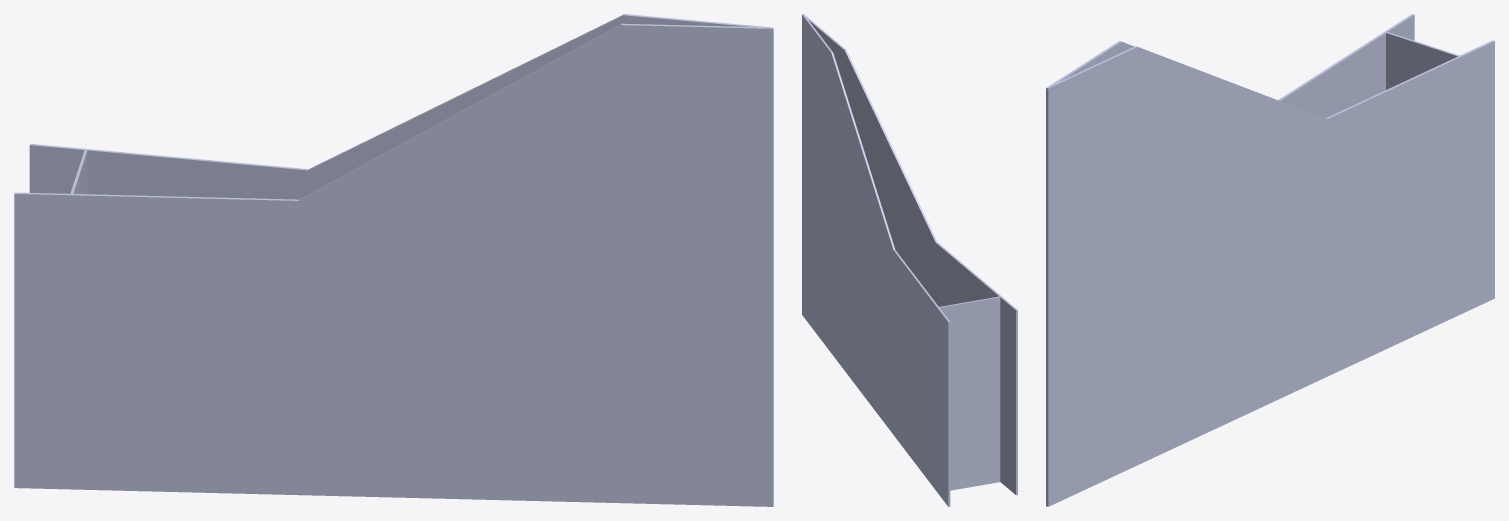
Rendered from 20210605_triangle-wall_E2-01.gltf.
3 views of the same model, side by side, from view 1: azimuth 30°, elevation 25°; view 2: azimuth 150°, elevation 25°; view 3: azimuth 270°, elevation 25° (orthographic). The views are drawn at different scales.
Visible parts, largest first — view 1: color; view 2: color; view 3: color.
Part boxes in pixels (bbox=[...]): color: bbox=[14, 14, 773, 506]; color: bbox=[802, 14, 1017, 506]; color: bbox=[1046, 14, 1494, 506].
Size of the model in its own units: 6.28 by 5.2 by 5.06.
